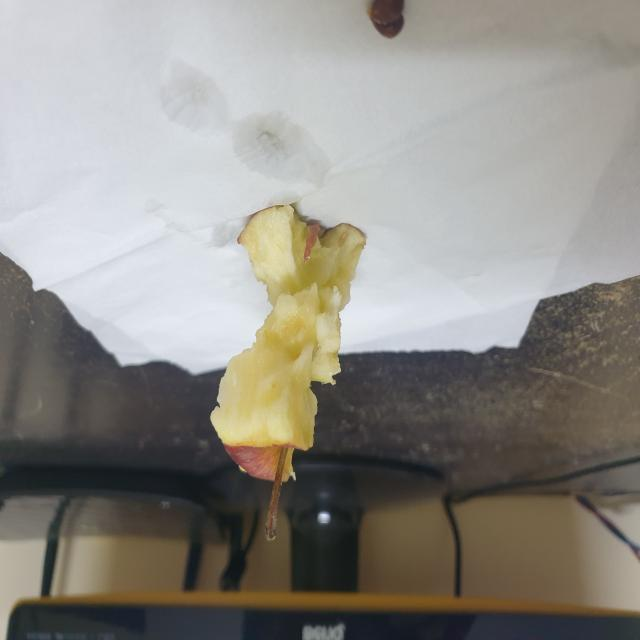apple: (210, 190, 376, 549)
